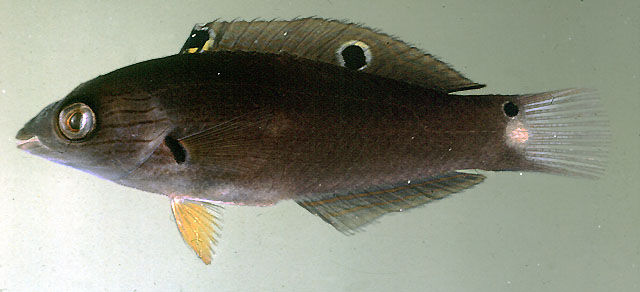fish: (15, 14, 611, 266)
